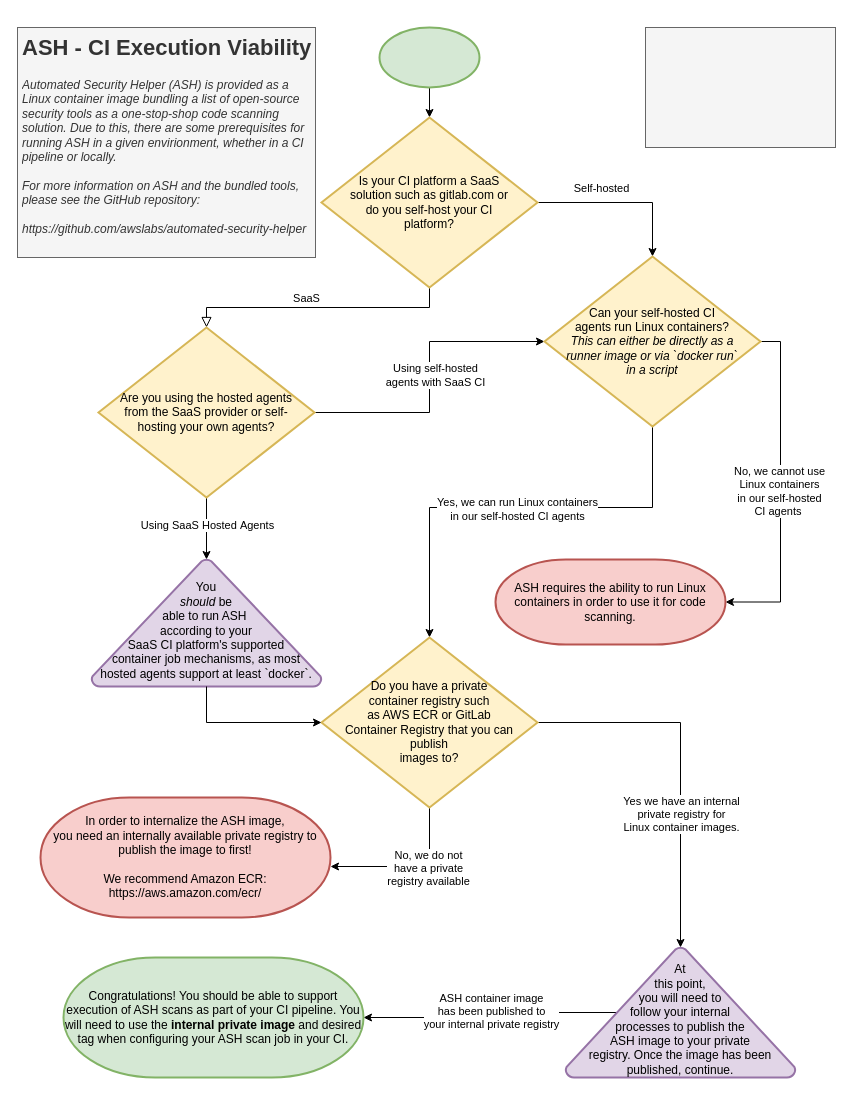
Some shapes in this 853 by 1095 pixel diagram are drawn without their labels. The shapes that lost their labels are listed below. From the top down, each one's box as (x1, y1, x2, y2) in pixels, then its label:
(378, 26, 480, 88): Start
(644, 26, 836, 148): Last Update Date: 2024-06-10 Updated by: @scrthq
